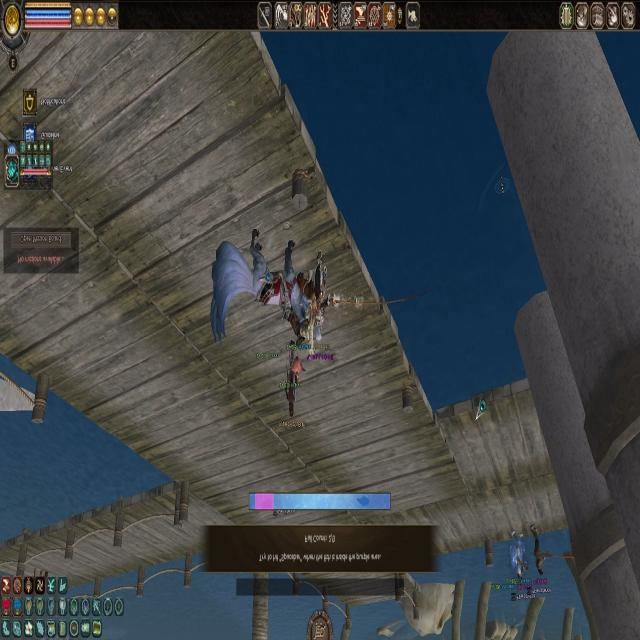fishes: (357, 495, 369, 507)
